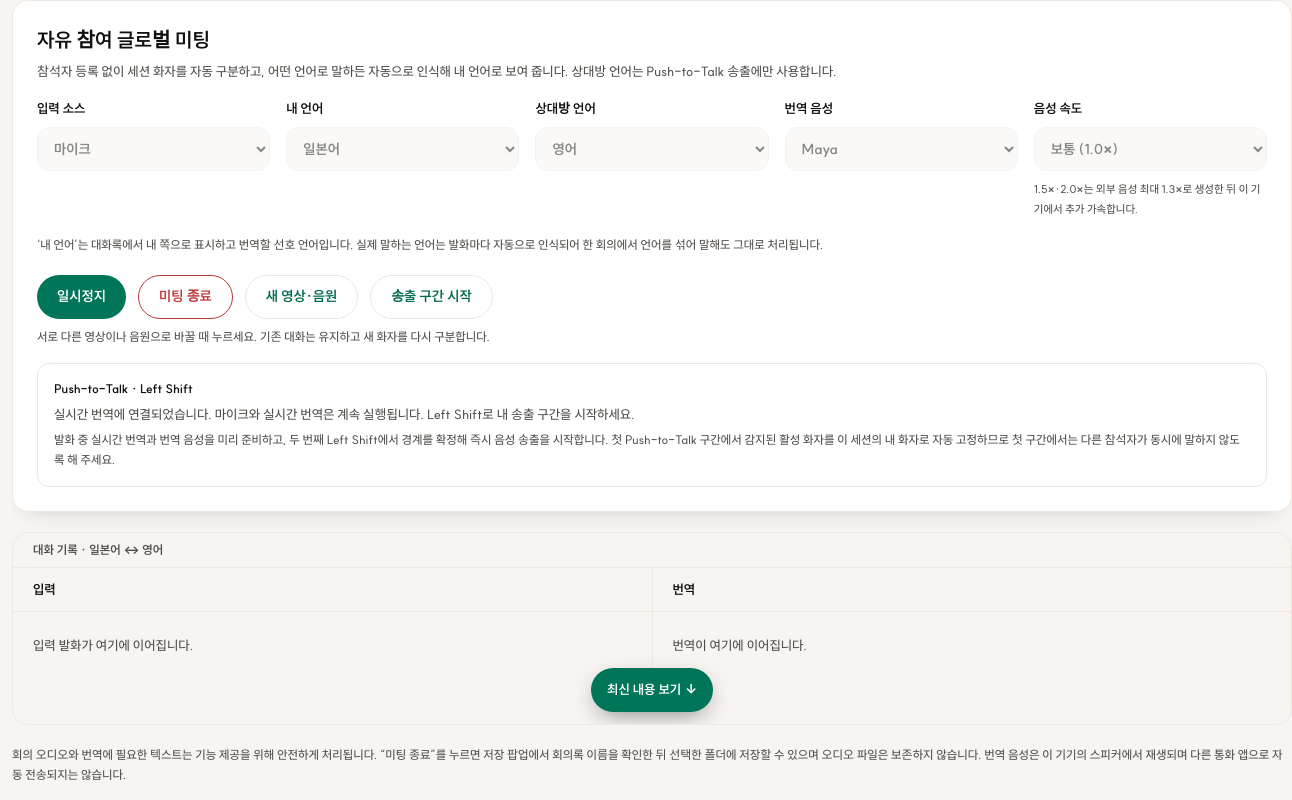
Test: TestProductMeetingPanel — AC5/AC6/AC7 scroll follow › reveals an explicit latest-content control only after the user scrolls up, and resuming scrolls to bottom
Click the button "최신 내용 보기 ↓" at (652, 690), box [591,668,713,712]
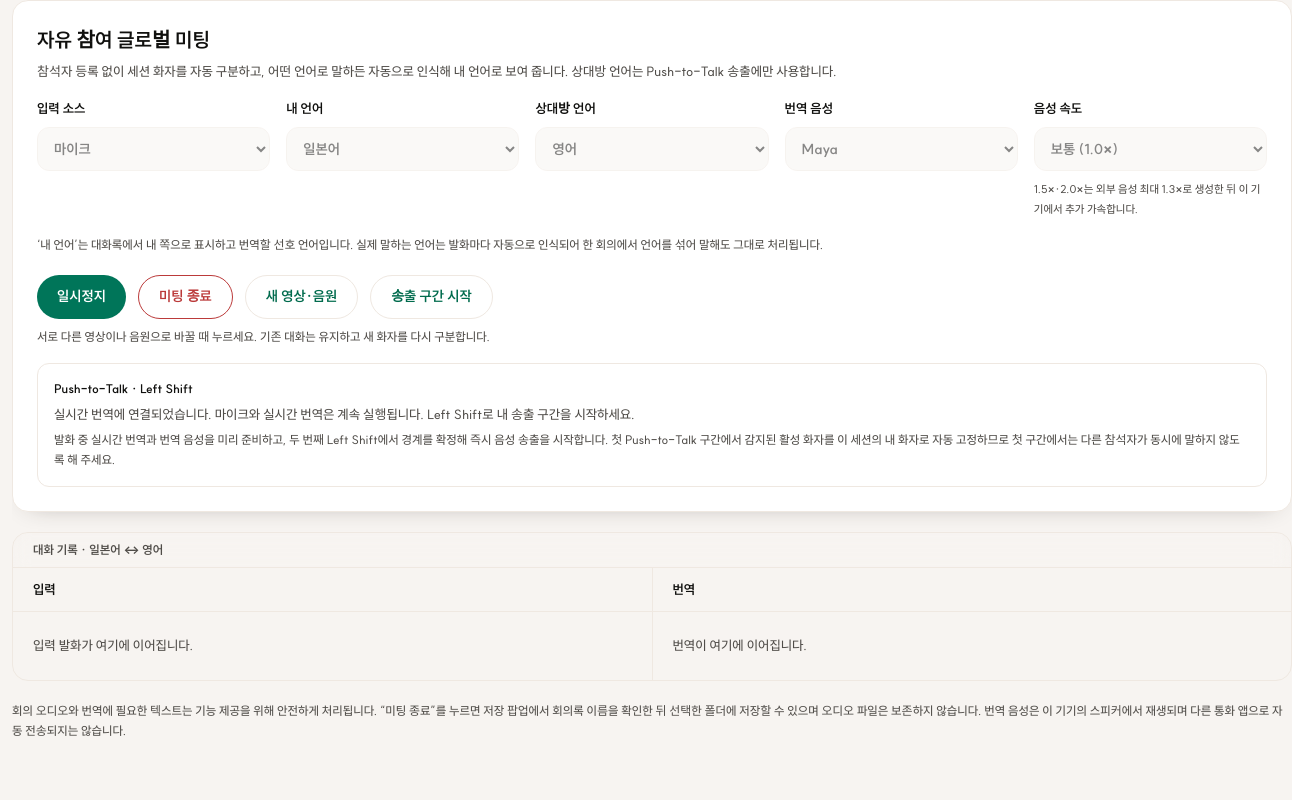
Expected: the button "최신 내용 보기" is gone
